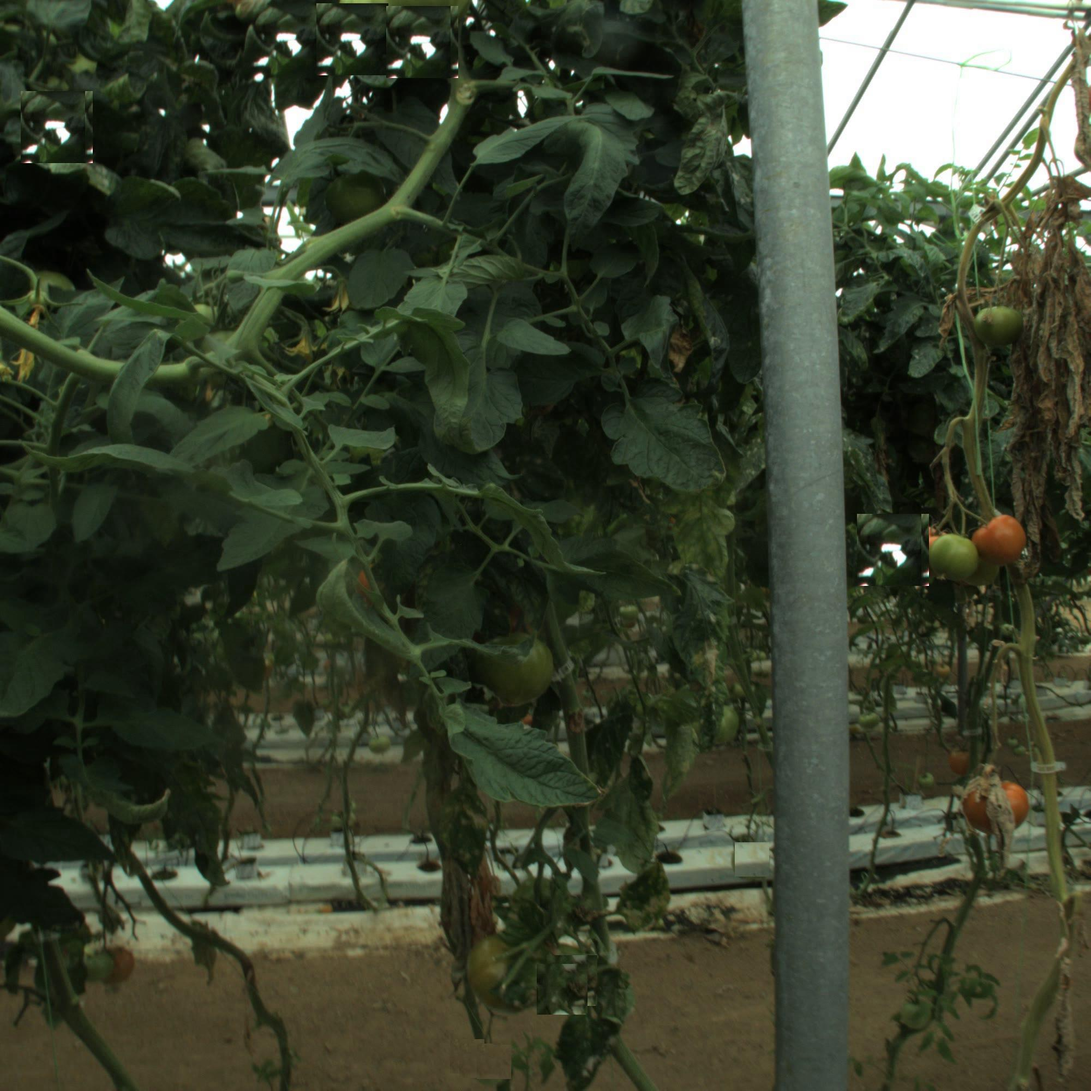['unripe', 'semi-ripe', 'fully-ripe']: (469, 627, 556, 715), (464, 936, 538, 1010), (975, 299, 1028, 353), (929, 533, 977, 581)
